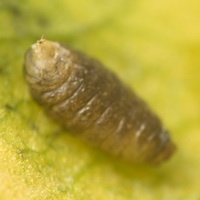insect: (24, 36, 174, 162)
